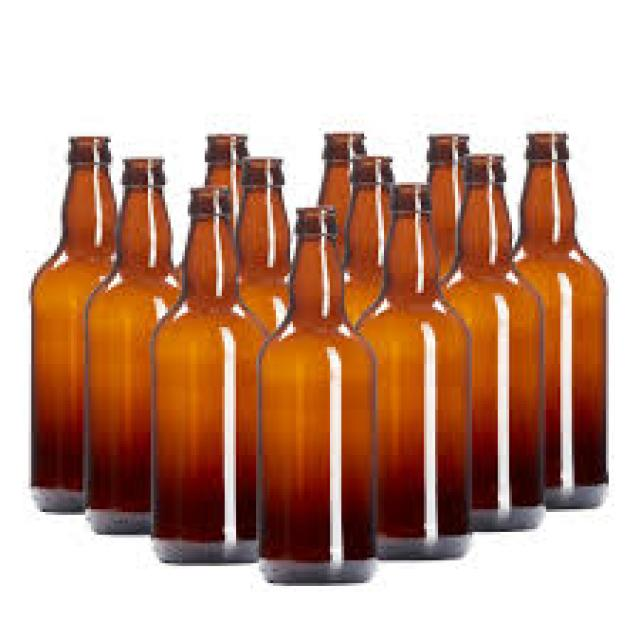glass: (145, 185, 267, 560), (253, 205, 373, 580), (353, 179, 464, 558), (435, 154, 543, 526), (509, 131, 606, 509), (83, 156, 177, 532), (29, 134, 120, 512), (236, 157, 290, 325), (344, 157, 398, 308), (424, 134, 472, 285), (316, 131, 361, 210), (202, 134, 242, 185)
